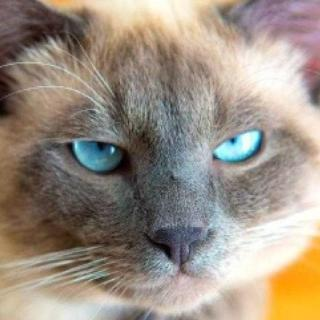cat: (14, 29, 298, 314)
nose: (138, 209, 226, 269)
